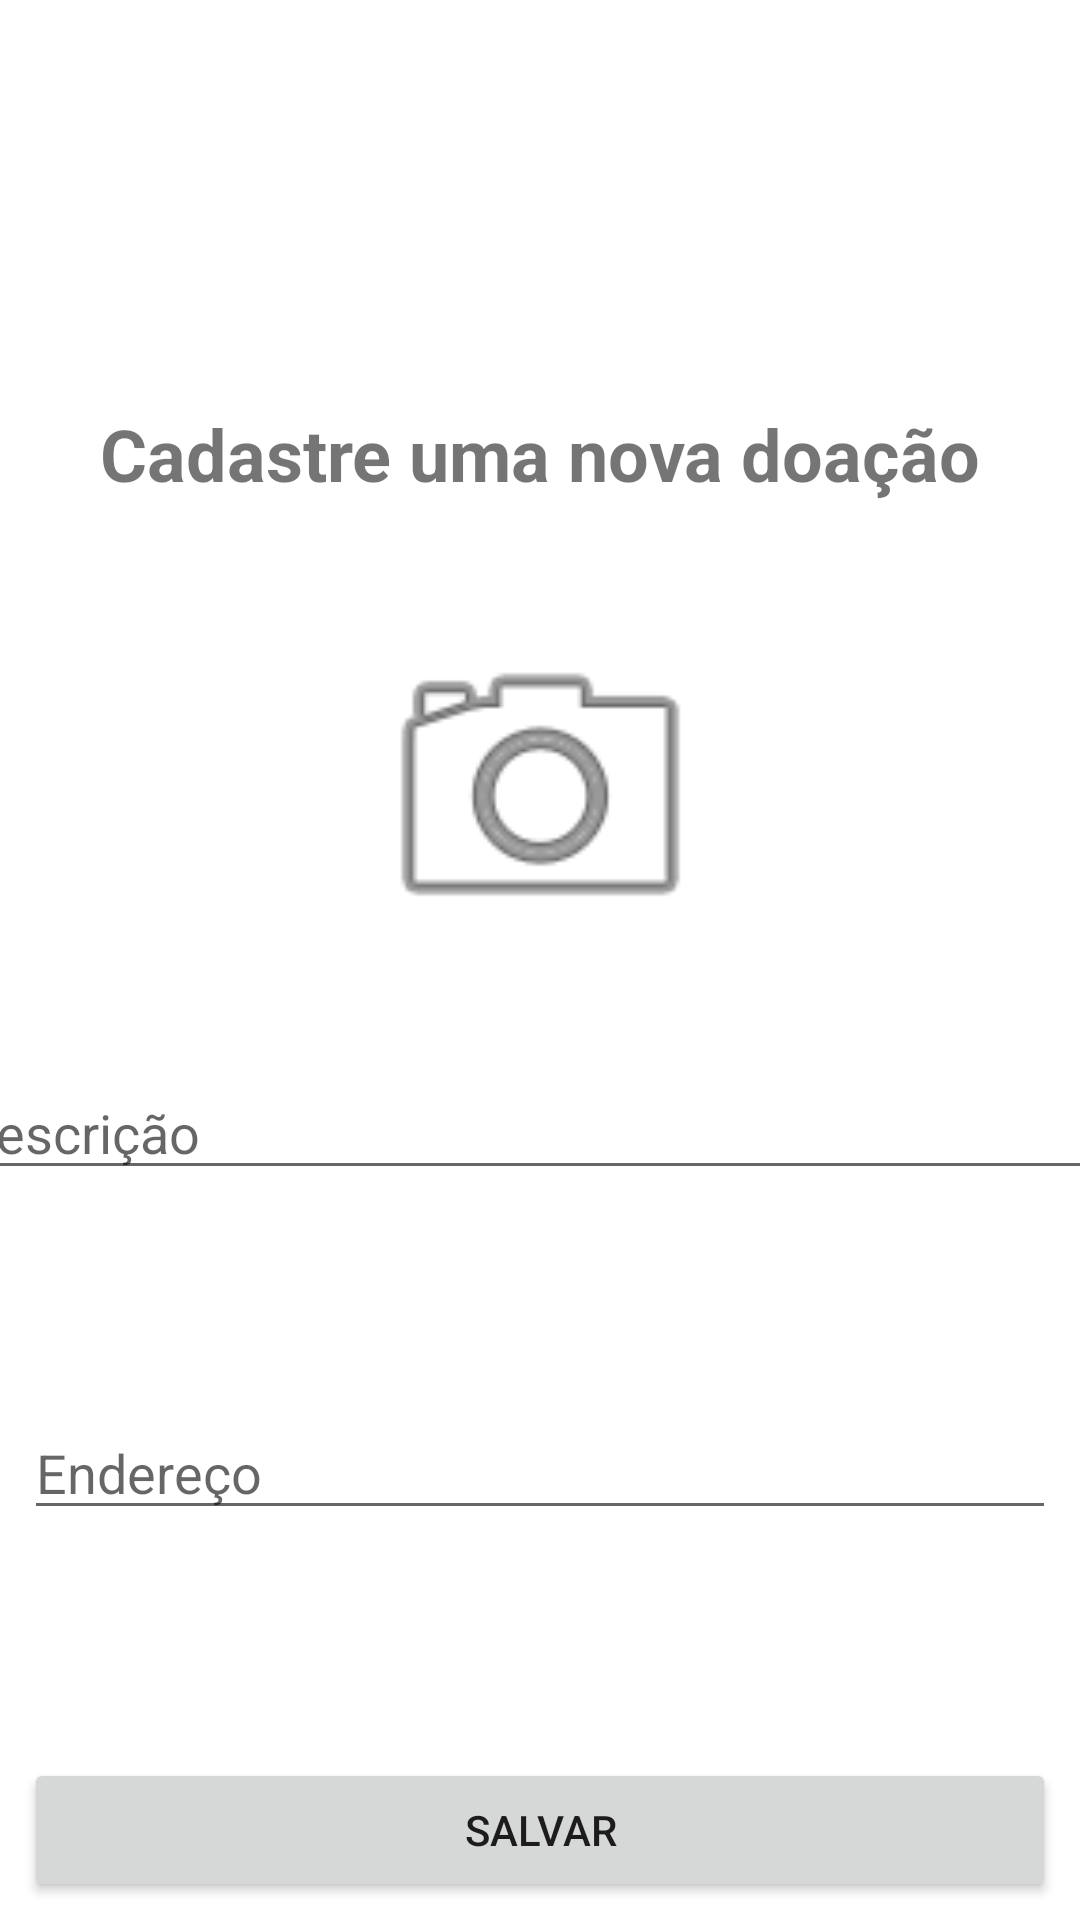

Where to tap for icons on this 1080px×1920px app screen, as [x,y]:
camera: [540,784]
